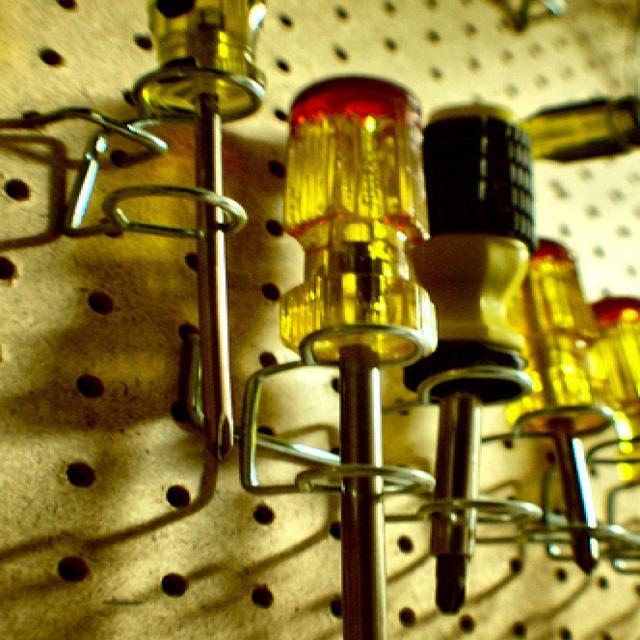screwdriver: (280, 54, 426, 640), (397, 97, 552, 624), (122, 0, 292, 474), (498, 224, 606, 584)
